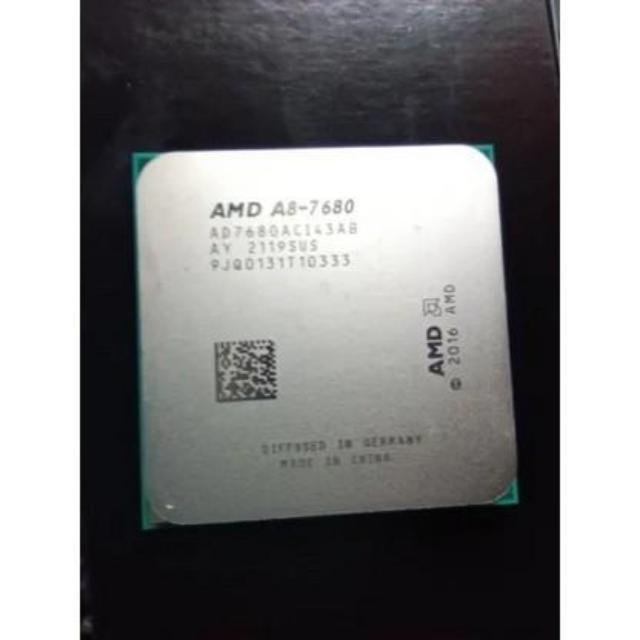CPU: (138, 147, 524, 516)
